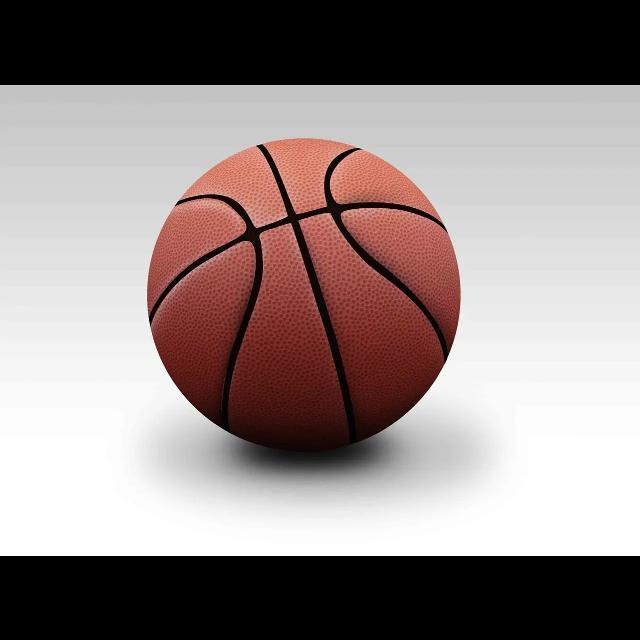basketball: (147, 136, 460, 450)
